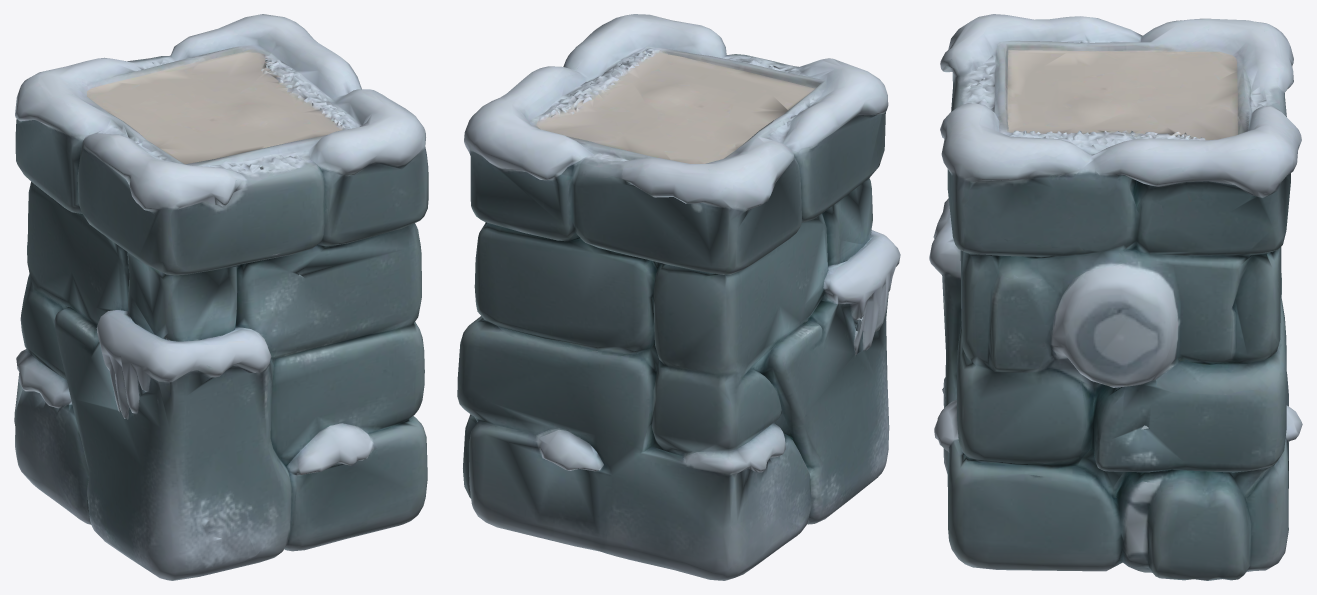
The picture shows the model from 3 angles, left to right: view 1: azimuth 30°, elevation 25°; view 2: azimuth 150°, elevation 25°; view 3: azimuth 270°, elevation 25°; orthographic projection. The views are drawn at different scales.
Parts seen in each view (by area): view 1: world; view 2: world; view 3: world.
Boxes of the visible parts, x1,y1,x2,y2 form: world: (14, 14, 428, 580); world: (457, 14, 900, 580); world: (929, 14, 1302, 580).
Size of the model in its own units: 0.7971 by 1 by 0.7742.
Materials: 1 (1 with a texture image).
